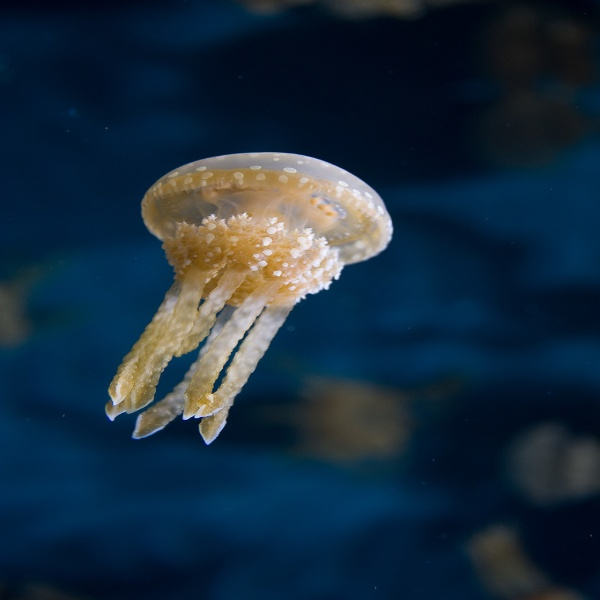Jellyfish: (93, 163, 396, 452)
